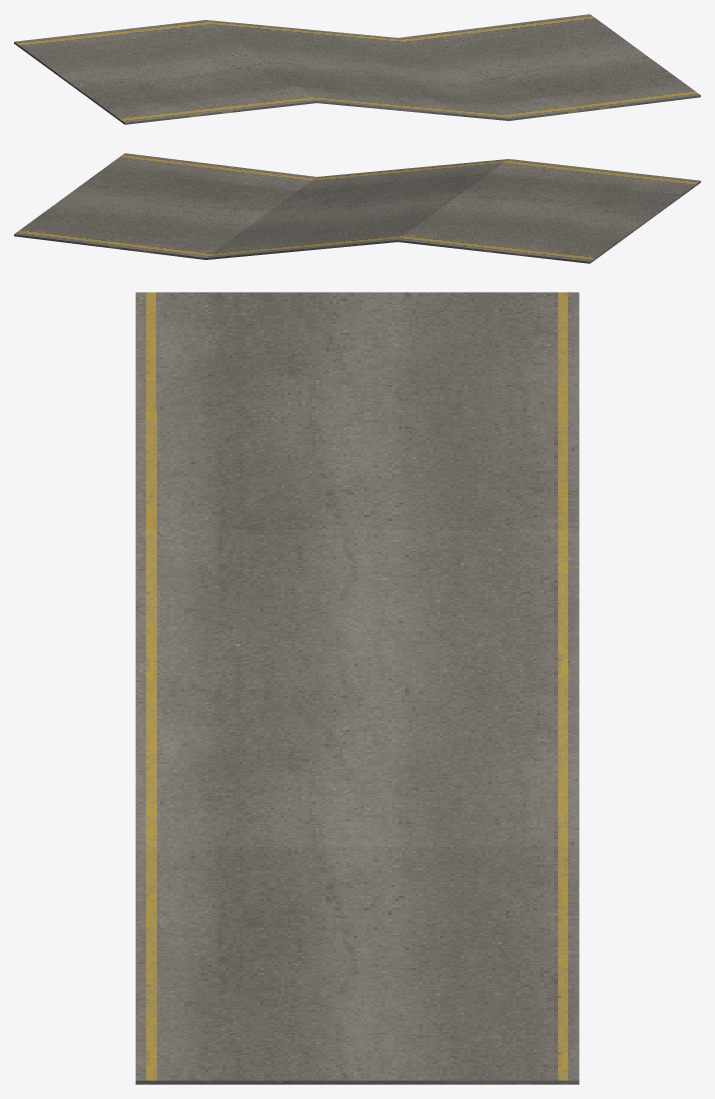
Rendered from road_2_slope_no_sides.glb.
The picture shows the model from 3 angles, top to bottom: view 1: azimuth 30°, elevation 25°; view 2: azimuth 150°, elevation 25°; view 3: azimuth 270°, elevation 25°; orthographic projection. The views are drawn at different scales.
Visible parts, largest first — view 1: road_2_slope_no_sides; view 2: road_2_slope_no_sides; view 3: road_2_slope_no_sides.
Part boxes in pixels (x1,y1,x2,y2): road_2_slope_no_sides: (14, 14, 700, 124); road_2_slope_no_sides: (14, 153, 700, 263); road_2_slope_no_sides: (135, 292, 579, 1084).
Size of the model in its own units: 48 by 9.16 by 16.
1 material, 1 textured.
